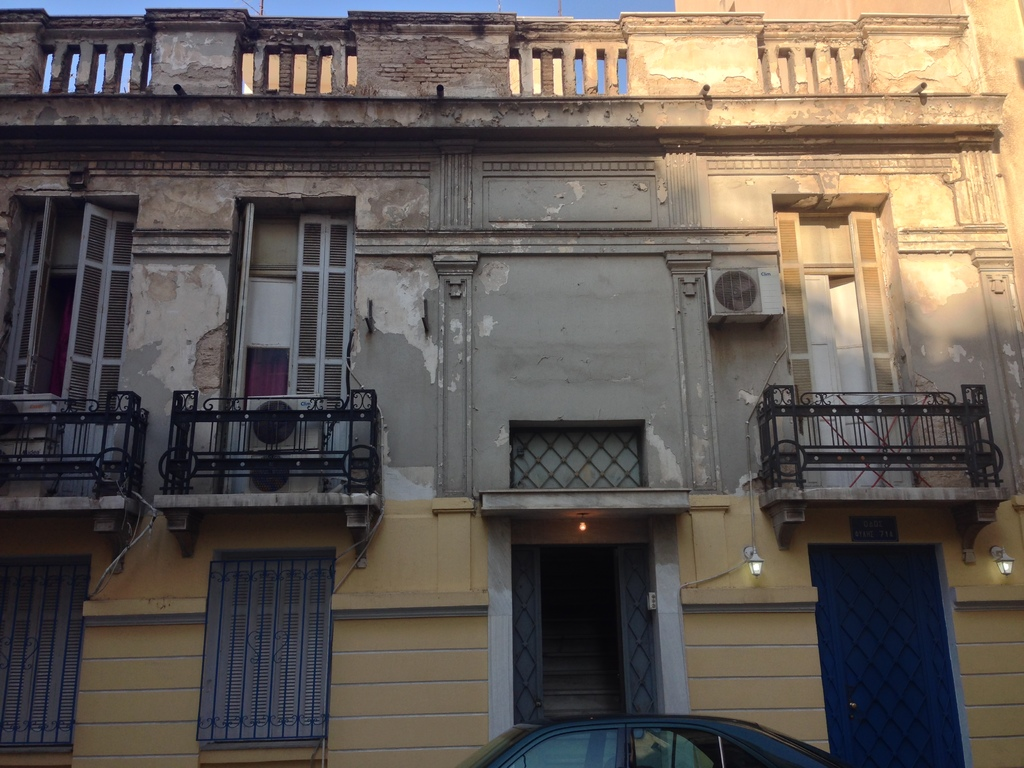Car: (460, 714, 828, 767)
